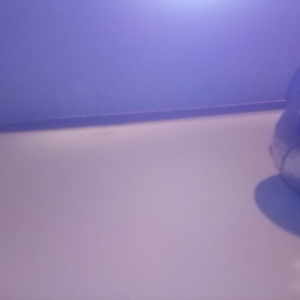alive_ball: (272, 99, 300, 191), (284, 70, 300, 129)
